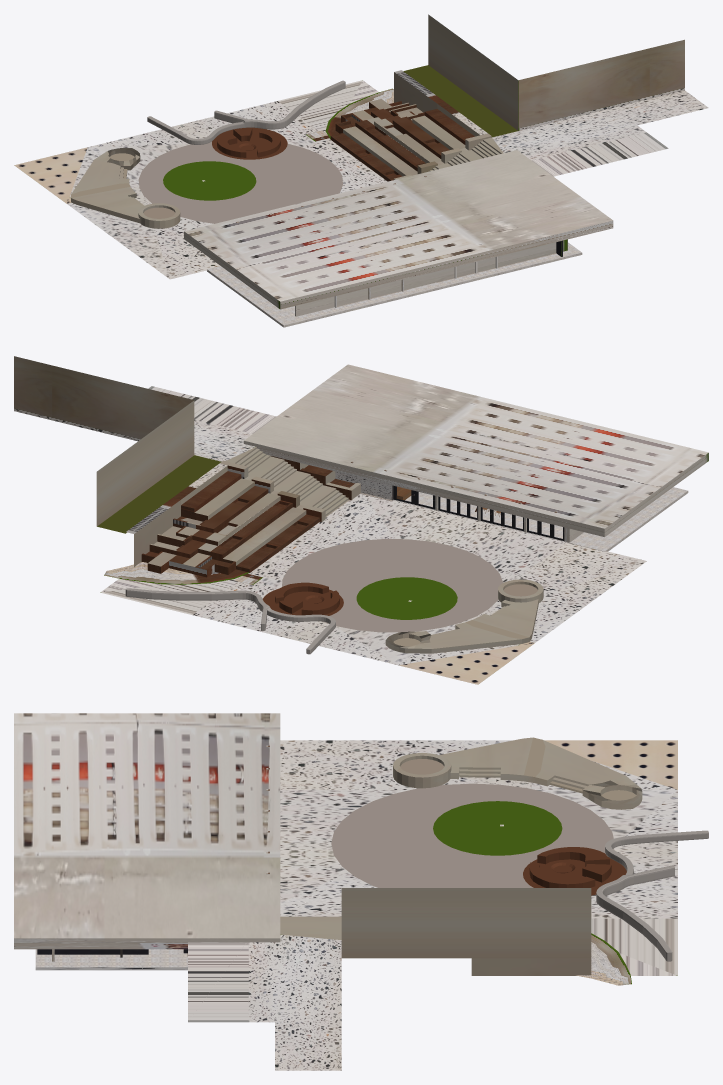
File: TheDen.obj
The picture shows the model from 3 angles, top to bottom: view 1: azimuth 30°, elevation 25°; view 2: azimuth 150°, elevation 25°; view 3: azimuth 270°, elevation 25°; orthographic projection. The views are drawn at different scales.
Visible parts, largest first — view 1: Cube, Roof, Circle, Middle floor.001, Cube.002, Bottom Wall, Circle.001, Cube.003, Circle.003, Cylinder.001, Plane.001; view 2: Cube, Roof, Circle, Cube.002, Circle.001, Middle floor.001, Cube.003, Circle.003, Plane.001, Cylinder.001, Theatrette - Top; view 3: Cube, Roof, Circle, Cube.002, Circle.001, Circle.003, Cube.003, Middle floor.001, Cylinder.001, Plane.001, Right wall.
Boxes of the visible parts, x1,y1,x2,y2 form: Cube: (14,14,708,279); Roof: (184,150,613,309); Circle: (138,141,342,223); Middle floor.001: (207,242,582,327); Cube.002: (71,147,143,223); Bottom Wall: (295,239,567,316); Circle.001: (163,161,256,200); Cube.003: (147,80,345,144); Circle.003: (212,127,287,159); Cylinder.001: (138,203,180,228); Plane.001: (325,88,393,138); Cube: (14,356,646,684); Roof: (243,364,708,537); Circle: (282,539,503,632); Cube.002: (385,598,538,653); Circle.001: (356,577,457,619); Middle floor.001: (394,487,688,551); Cube.003: (125,588,335,654); Circle.003: (262,582,343,615); Plane.001: (104,562,249,584); Cylinder.001: (498,579,543,602); Theatrette - Top: (335,471,393,500); Cube: (188,740,677,1070); Roof: (14,713,280,949); Circle: (331,783,613,887); Cube.002: (439,737,642,809); Circle.001: (433,801,562,855); Circle.003: (523,847,626,895); Cube.003: (596,830,708,961); Middle floor.001: (35,949,187,970); Cylinder.001: (393,753,451,788); Plane.001: (576,933,631,985); Right wall: (37,949,148,954).
Size of the model in its own units: 66 by 9.86 by 52.18.
